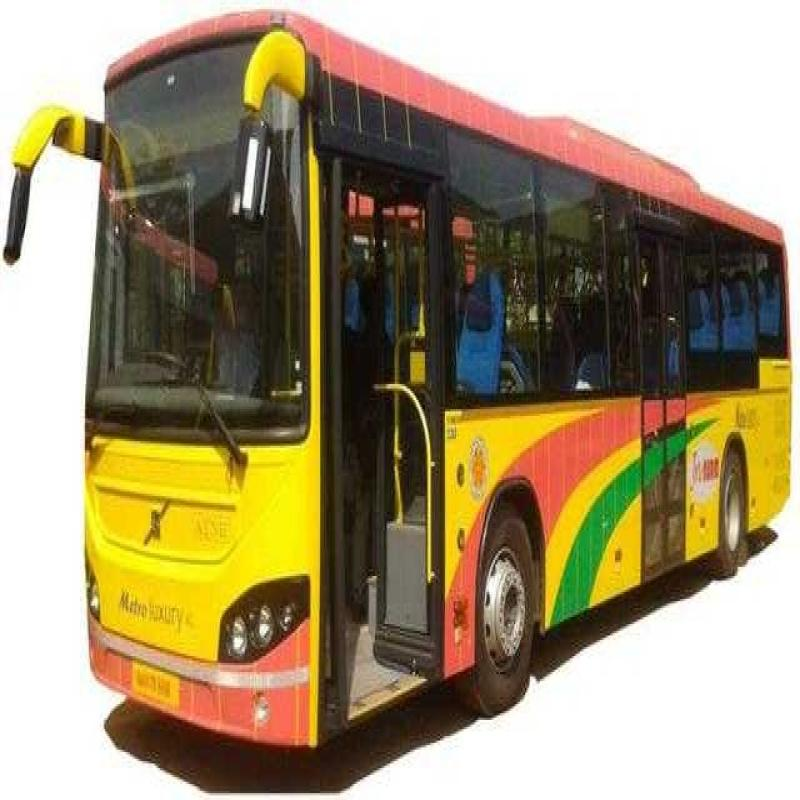bus: (67, 34, 790, 678)
